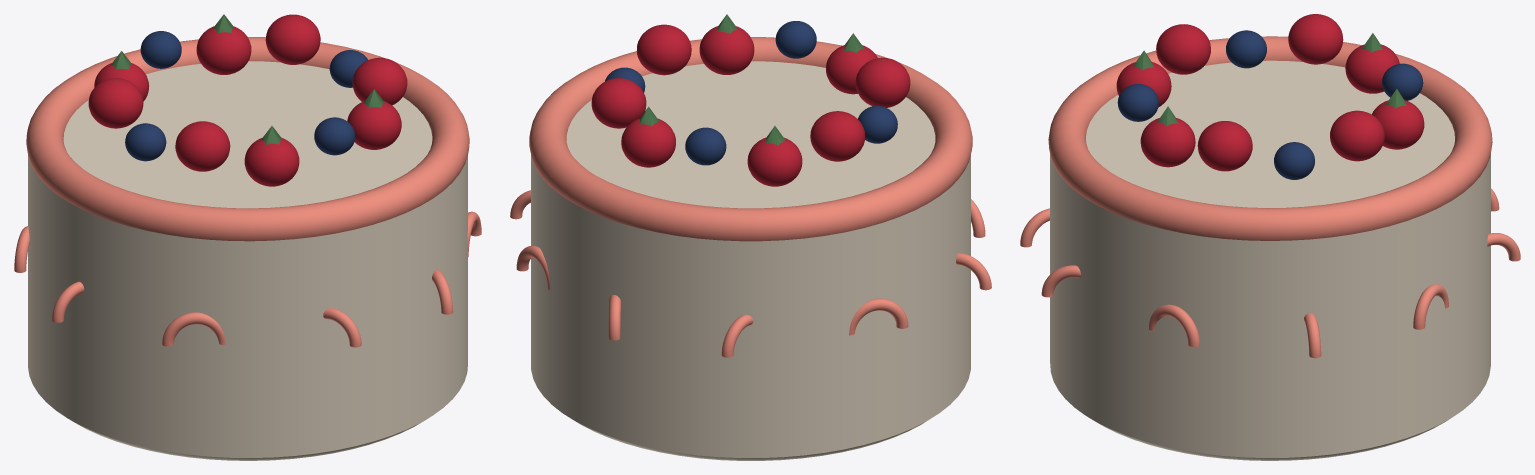
The model's file is cake.glb.
3 renders of one model, left to right at view 1: azimuth 30°, elevation 25°; view 2: azimuth 150°, elevation 25°; view 3: azimuth 270°, elevation 25°, orthographic.
Parts seen in each view (by area): view 1: LaBaguette_cake; view 2: LaBaguette_cake; view 3: LaBaguette_cake.
Boxes of the visible parts, x1,y1,x2,y2 form: LaBaguette_cake: [14, 14, 481, 460]; LaBaguette_cake: [510, 14, 991, 460]; LaBaguette_cake: [1020, 14, 1520, 460].
Size of the model in its own units: 2.92 by 1.95 by 2.91.
